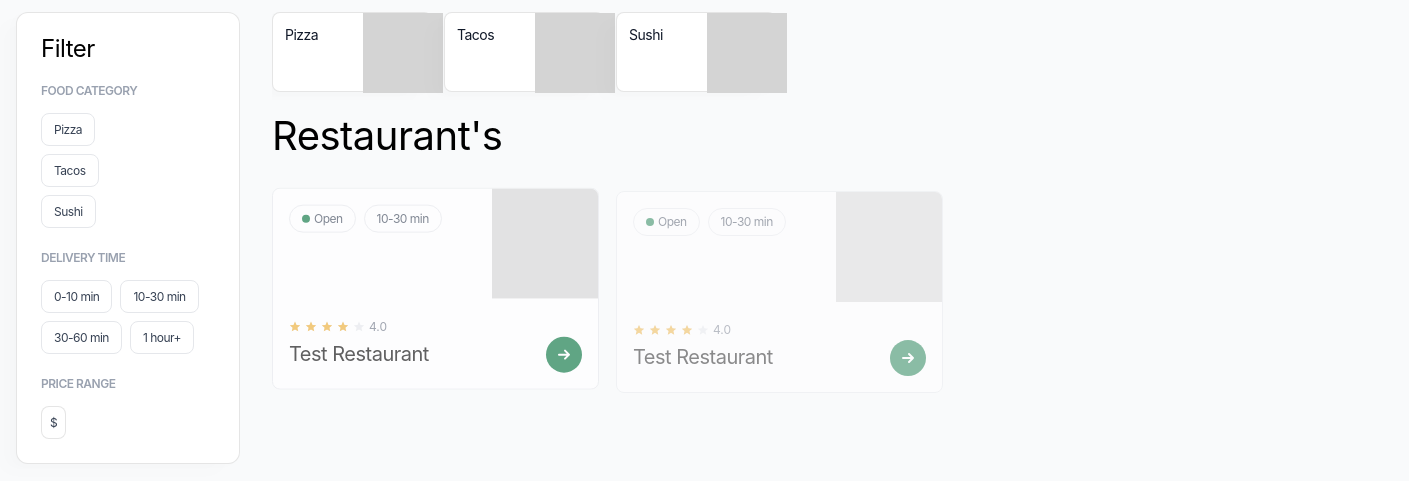
Test: RestaurantBrowser filtering › shows the empty state when the selected filter matches no restaurant
The width and height of the screenshot is (1409, 481).
Click the button with test id "filter-chip-category-sidebar-sushi-id".
click(68, 212)  # box [41,195,96,228]
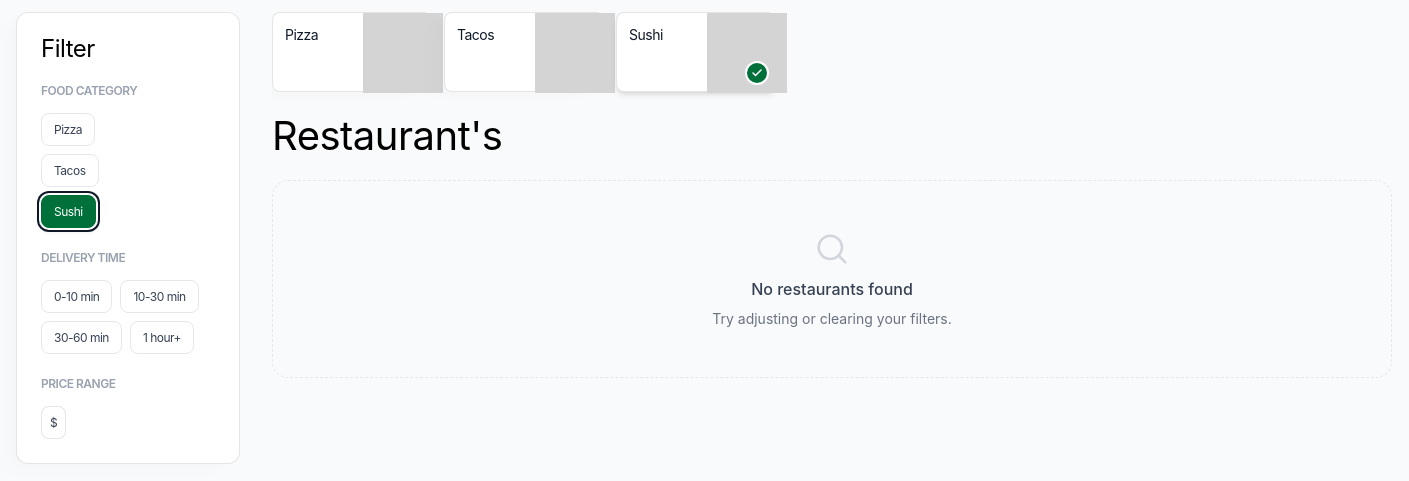
Result: the element with test id "restaurant-list-empty-state" is shown at [272,180,1392,378]
